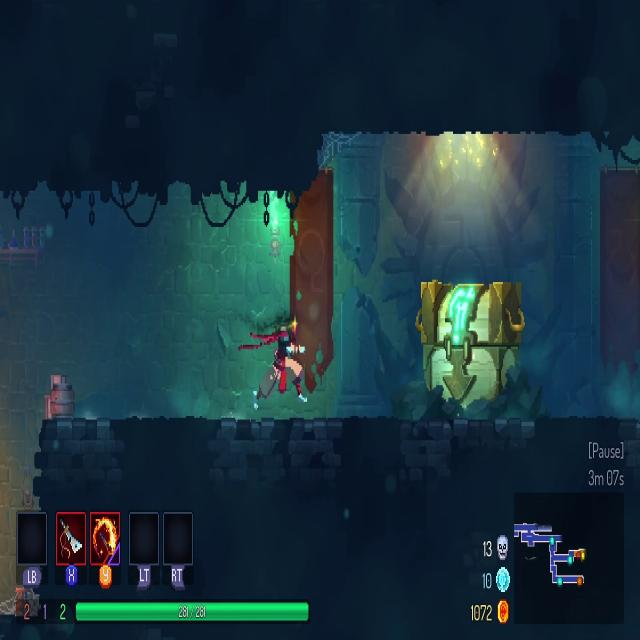agents: (257, 318, 305, 400)
